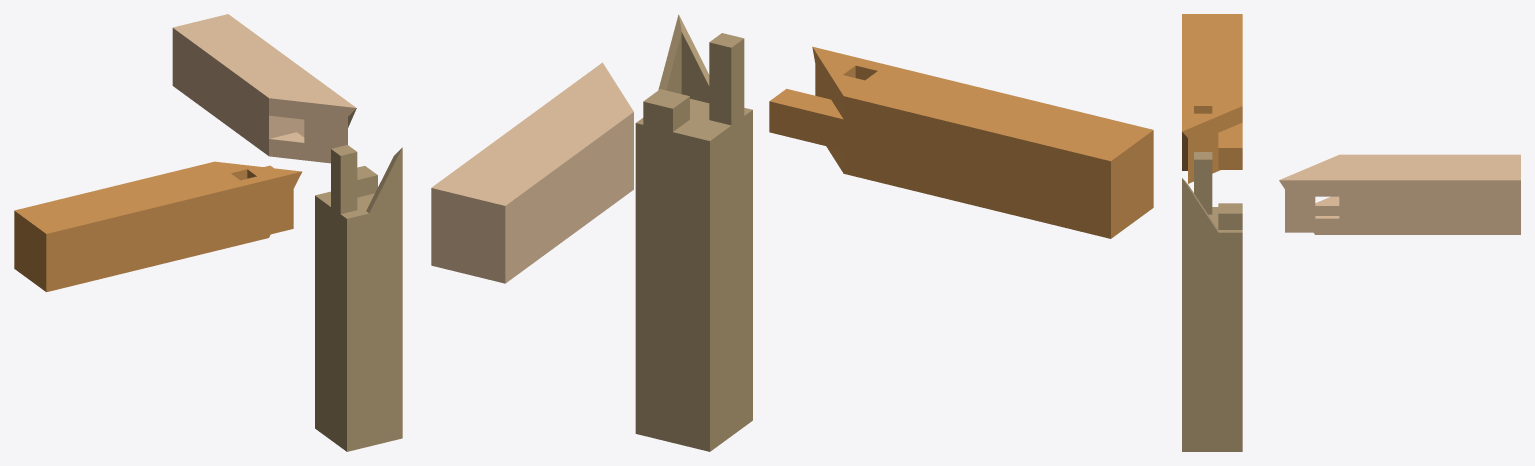
3 views of the same model, side by side, from view 1: azimuth 30°, elevation 25°; view 2: azimuth 150°, elevation 25°; view 3: azimuth 270°, elevation 25° (orthographic). The views are drawn at different scales.
Bounding box in the file's own units: 6.5 × 5 × 5.6.
